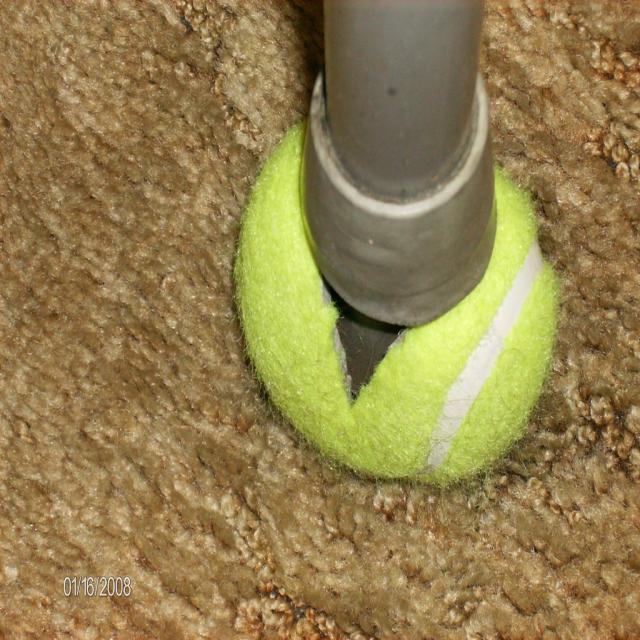Tennis ball: (237, 120, 560, 490)
